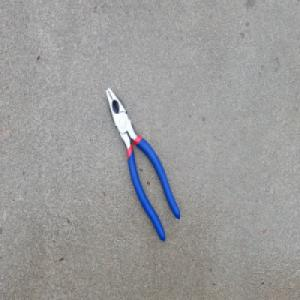Pliers: (103, 85, 180, 244)
